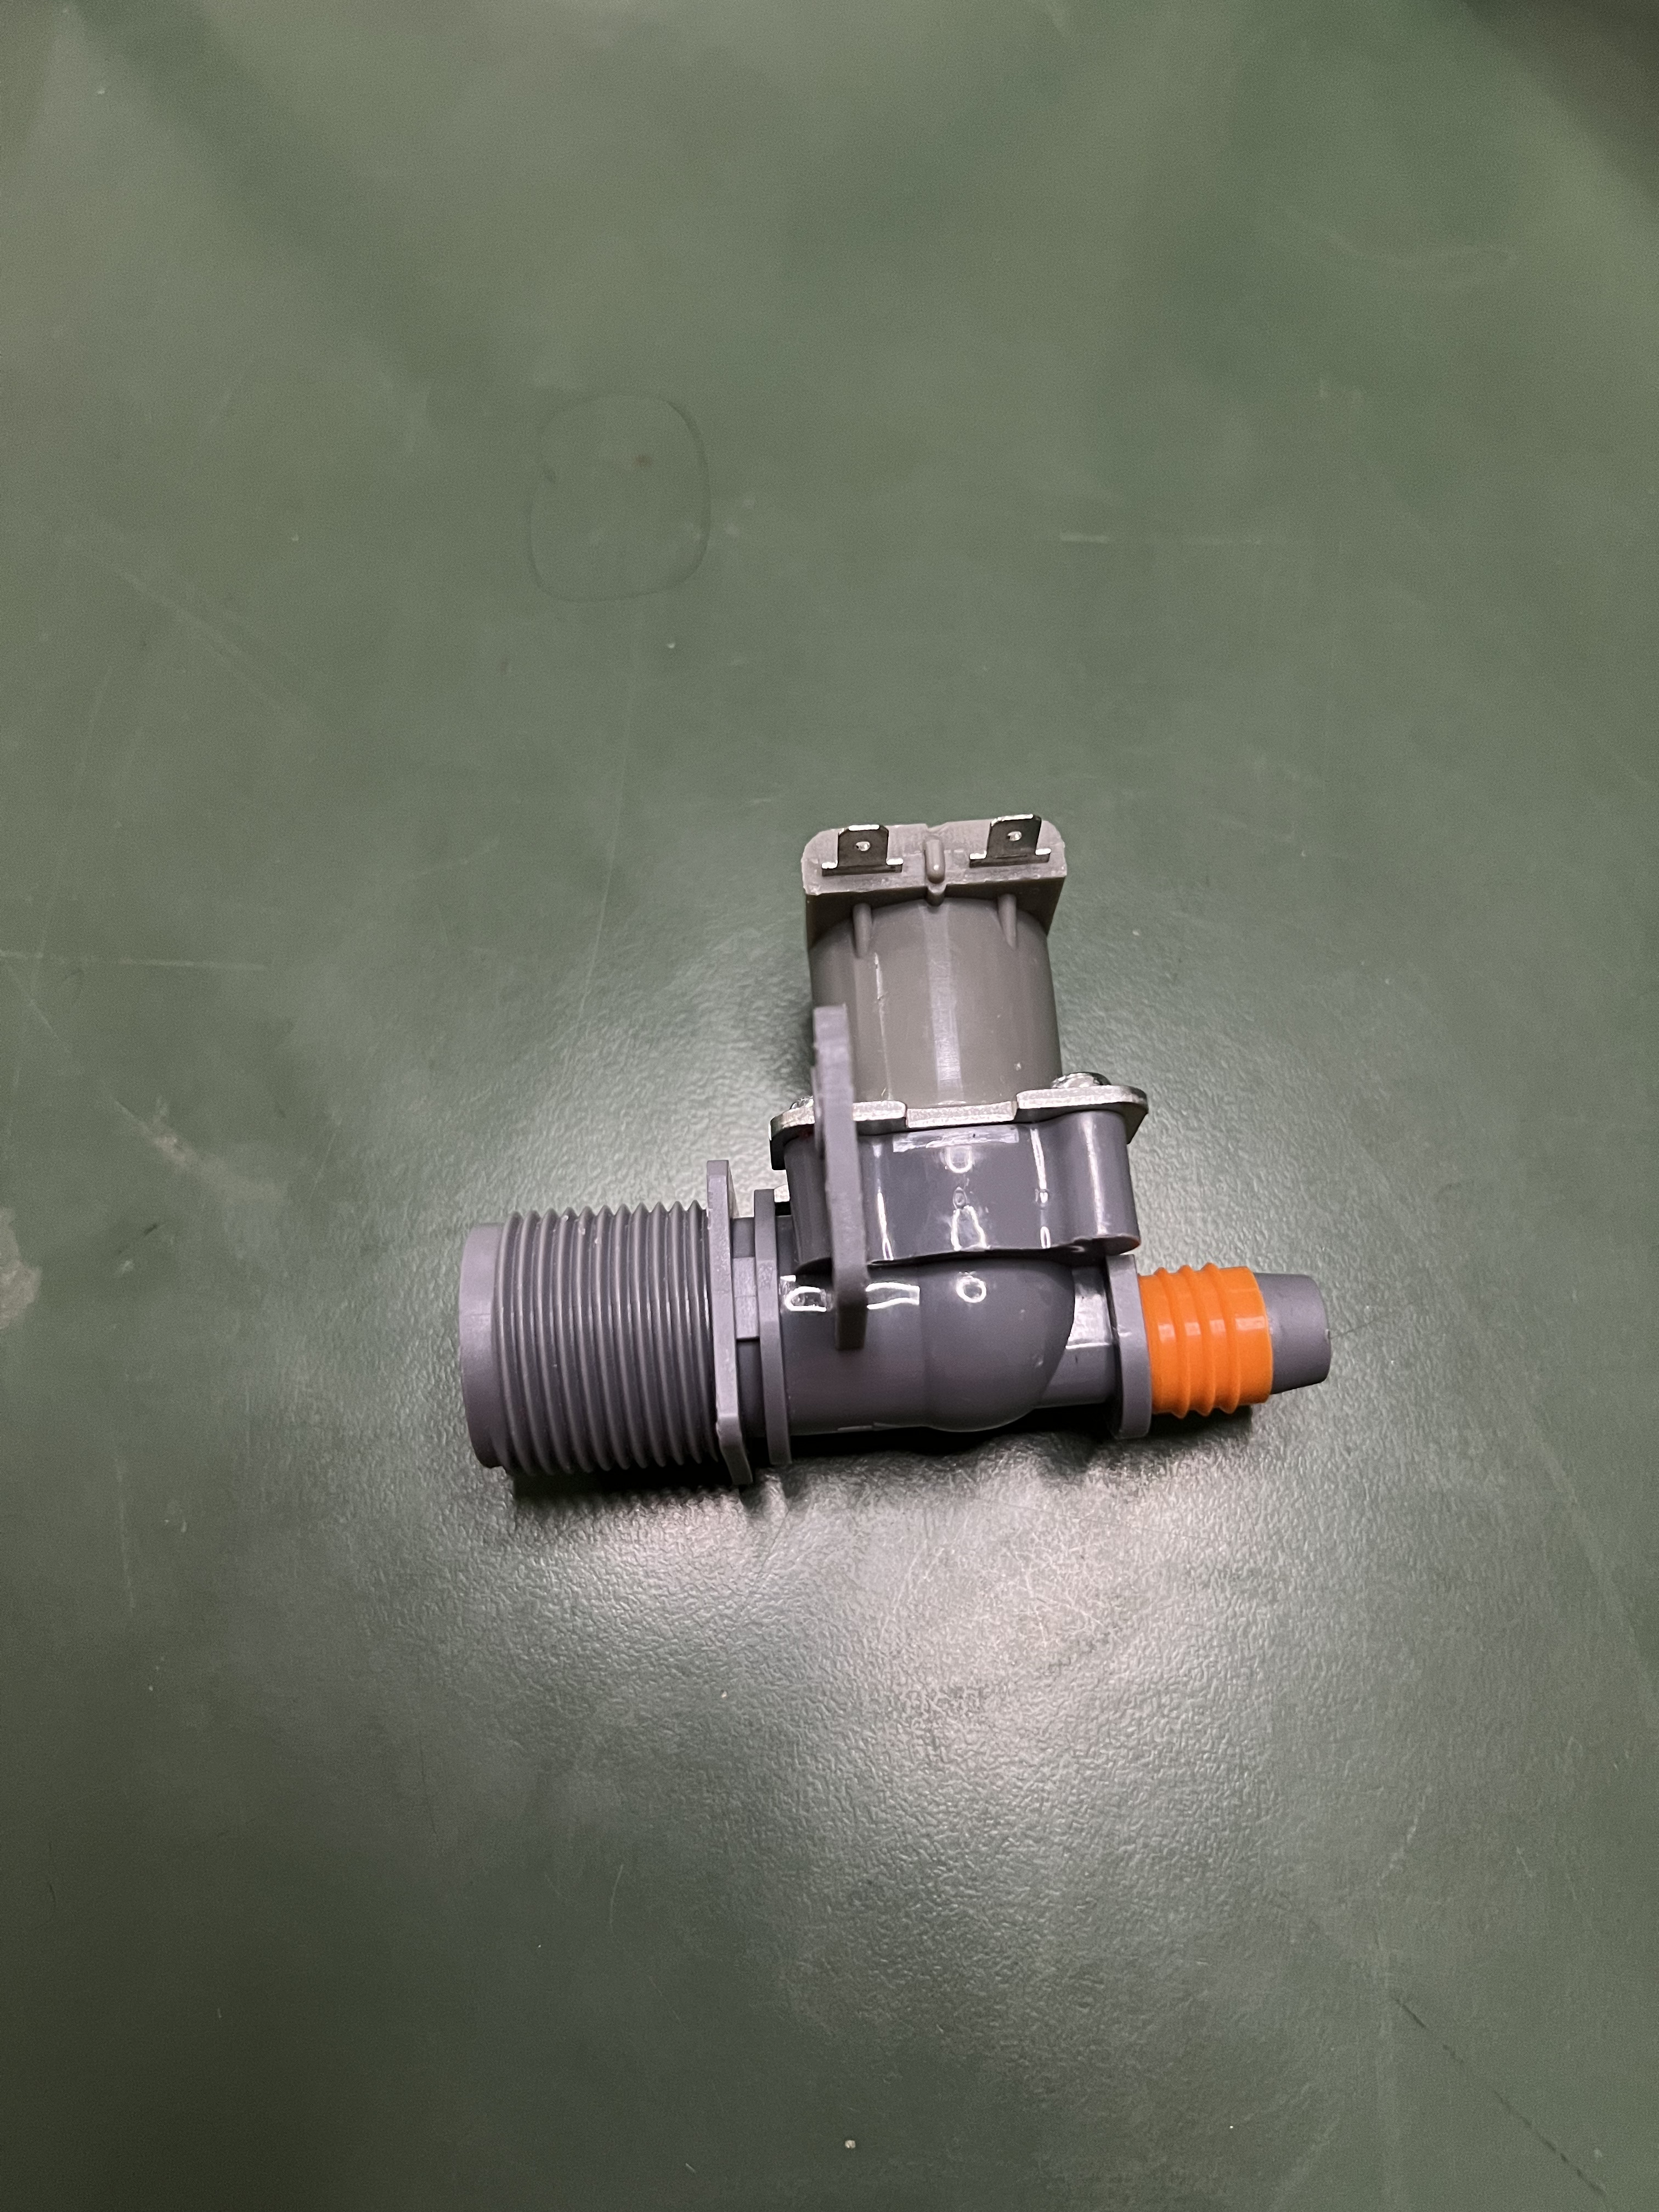inlet_valves: (429, 805, 1455, 1489)
